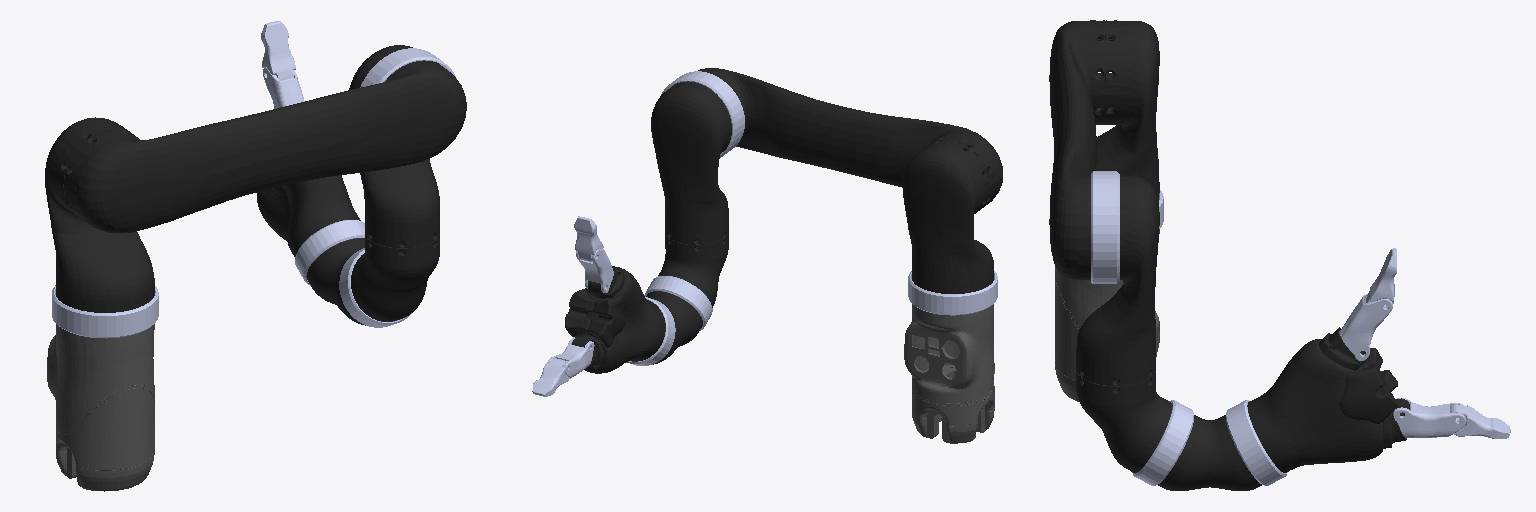
The robot description file, URDF, robot "ADA":
<robot
  name="ADA">
  <link
    name="base_link">
    <inertial>
      <origin
        xyz="0 -0.0018698 0.00076788"
        rpy="0 0 0" />
      <mass
        value="0.64" />
      <inertia
        ixx="0.00059853"
        ixy="0"
        ixz="0"
        iyy="0.00058911"
        iyz="0"
        izz="0.00031086" />
    </inertial>
    <visual>
      <origin
        xyz="0 0 0"
        rpy="0 0 0" />
      <geometry>
        <mesh
          filename="package://ada_description/meshes/base_link.STL" />
      </geometry>
      <material
        name="">
        <color
          rgba="0.4 0.4 0.4 1" />
      </material>
    </visual>
    <collision>
      <origin
        xyz="0 0 0"
        rpy="0 0 0" />
      <geometry>
        <mesh
          filename="package://ada_description/meshes/base_link.STL" />
      </geometry>
    </collision>
  </link>
  <link
    name="Shoulder_Link">
    <inertial>
      <origin
        xyz="0 0.015563 0.072664"
        rpy="0 0 0" />
      <mass
        value="0.15215" />
      <inertia
        ixx="0.00035346"
        ixy="0"
        ixz="0"
        iyy="0.00038125"
        iyz="0"
        izz="0.00016029" />
    </inertial>
    <visual>
      <origin
        xyz="0 0 0"
        rpy="0 0 0" />
      <geometry>
        <mesh
          filename="package://ada_description/meshes/Shoulder_Link.STL" />
      </geometry>
      <material
        name="">
        <color
          rgba="0.2 0.2 0.2 1" />
      </material>
    </visual>
    <collision>
      <origin
        xyz="0 0 0"
        rpy="0 0 0" />
      <geometry>
        <mesh
          filename="package://ada_description/meshes/Shoulder_Link.STL" />
      </geometry>
    </collision>
  </link>
  <joint
    name="j1"
    type="continuous">
    <origin
      xyz="0 0 0.09875"
      rpy="0 0 0" />
    <parent
      link="base_link" />
    <child
      link="Shoulder_Link" />
    <axis
      xyz="0 0 -1" />
    <limit
      effort="9.5"
      velocity="0.9425" />
  </joint>
  <transmission name="Shoulder_Joint_Transmission">
    <type>transmission_interface/SimpleTransmission</type>
    <joint name="j1"/>
    <actuator name="Shoulder_Motor">
      <hardwareInterface>EffortJointInterface</hardwareInterface>
      <mechanicalReduction>136</mechanicalReduction>
    </actuator>
  </transmission>
  <link
    name="Arm_Link">
    <inertial>
      <origin
        xyz="-0.14503 0 -0.02688"
        rpy="0 0 0" />
      <mass
        value="0.2936" />
      <inertia
        ixx="0.00020244"
        ixy="0"
        ixz="0"
        iyy="0.0033623"
        iyz="0"
        izz="0.0034884" />
    </inertial>
    <visual>
      <origin
        xyz="0 0 0"
        rpy="0 0 0" />
      <geometry>
        <mesh
          filename="package://ada_description/meshes/Arm_Link.STL" />
      </geometry>
      <material
        name="">
        <color
          rgba="0.2 0.2 0.2 1" />
      </material>
    </visual>
    <collision>
      <origin
        xyz="0 0 0"
        rpy="0 0 0" />
      <geometry>
        <mesh
          filename="package://ada_description/meshes/Arm_Link.STL" />
      </geometry>
    </collision>
  </link>
  <joint
    name="j2"
    type="revolute">
    <origin
      xyz="0 -0.00175 0.11875"
      rpy="1.5708 0 3.1416" />
    <parent
      link="Shoulder_Link" />
    <child
      link="Arm_Link" />
    <axis
      xyz="0 0 1" />
    <limit
      lower="-3.84"
      upper="0.70"
      effort="9.5"
      velocity="0.9425" />
  </joint>
  <transmission name="Arm_Joint_Transmission">
    <type>transmission_interface/SimpleTransmission</type>
    <joint name="j2"/>
    <actuator name="Arm_Motor">
      <hardwareInterface>EffortJointInterface</hardwareInterface>
      <mechanicalReduction>136</mechanicalReduction>
    </actuator>
  </transmission>
  <link
    name="Forearm_Link">
    <inertial>
      <origin
        xyz="0 -0.04006 -0.021871"
        rpy="0 0 0" />
      <mass
        value="0.12259" />
      <inertia
        ixx="0.00024901"
        ixy="0"
        ixz="0"
        iyy="0"
        iyz="0"
        izz="0.00028426" />
    </inertial>
    <visual>
      <origin
        xyz="0 0 0"
        rpy="0 0 0" />
      <geometry>
        <mesh
          filename="package://ada_description/meshes/Forearm_Link.STL" />
      </geometry>
      <material
        name="">
        <color
          rgba="0.2 0.2 0.2 1" />
      </material>
    </visual>
    <collision>
      <origin
        xyz="0 0 0"
        rpy="0 0 0" />
      <geometry>
        <mesh
          filename="package://ada_description/meshes/Forearm_Link.STL" />
      </geometry>
    </collision>
  </link>
  <joint
    name="j3"
    type="revolute">
    <origin
      xyz="-0.29 0 0"
      rpy="3.1416 0 -3.1416" />
    <parent
      link="Arm_Link" />
    <child
      link="Forearm_Link" />
    <axis
      xyz="0 0 1" />
    <limit
      lower="-0.96"
      upper="4.10"
      effort="9.5"
      velocity="0.9425" />
  </joint>
  <transmission name="Forearm_Joint_Transmission">
    <type>transmission_interface/SimpleTransmission</type>
    <joint name="j3"/>
    <actuator name="Forearm_Motor">
      <hardwareInterface>EffortJointInterface</hardwareInterface>
      <mechanicalReduction>136</mechanicalReduction>
    </actuator>
  </transmission>
  <link
    name="Wrist_1_Link">
    <inertial>
      <origin
        xyz="0 -0.0082688 -0.038029"
        rpy="0 0 0" />
      <mass
        value="0.03694" />
      <inertia
        ixx="0"
        ixy="0"
        ixz="0"
        iyy="0"
        iyz="0"
        izz="0" />
    </inertial>
    <visual>
      <origin
        xyz="0 0 0"
        rpy="0 0 0" />
      <geometry>
        <mesh
          filename="package://ada_description/meshes/Wrist_1_Link.STL" />
      </geometry>
      <material
        name="">
        <color
          rgba="0.2 0.2 0.2 1" />
      </material>
    </visual>
    <collision>
      <origin
        xyz="0 0 0"
        rpy="0 0 0" />
      <geometry>
        <mesh
          filename="package://ada_description/meshes/Wrist_1_Link.STL" />
      </geometry>
    </collision>
  </link>
  <joint
    name="j4"
    type="continuous">
    <origin
      xyz="0 -0.12325 -0.00875"
      rpy="1.5708 0 -3.1416" />
    <parent
      link="Forearm_Link" />
    <child
      link="Wrist_1_Link" />
    <axis
      xyz="0 0 1" />
    <limit
      effort="3.8"
      velocity="1.885" />
  </joint>
  <transmission name="Wrist_1_Joint_Transmission">
    <type>transmission_interface/SimpleTransmission</type>
    <joint name="j4"/>
    <actuator name="Wrist_1_Motor">
      <hardwareInterface>EffortJointInterface</hardwareInterface>
      <mechanicalReduction>110</mechanicalReduction>
    </actuator>
  </transmission>
  <link
    name="Wrist_2_Link">
    <inertial>
      <origin
        xyz="0 0.0082685 -0.038029"
        rpy="0 0 0" />
      <mass
        value="0.036939" />
      <inertia
        ixx="0"
        ixy="0"
        ixz="0"
        iyy="0"
        iyz="0"
        izz="0" />
    </inertial>
    <visual>
      <origin
        xyz="0 0 0"
        rpy="0 0 0" />
      <geometry>
        <mesh
          filename="package://ada_description/meshes/Wrist_2_Link.STL" />
      </geometry>
      <material
        name="">
        <color
          rgba="0.2 0.2 0.2 1" />
      </material>
    </visual>
    <collision>
      <origin
        xyz="0 0 0"
        rpy="0 0 0" />
      <geometry>
        <mesh
          filename="package://ada_description/meshes/Wrist_2_Link.STL" />
      </geometry>
    </collision>
  </link>
  <joint
    name="j5"
    type="continuous">
    <origin
      xyz="0 -0.037029 -0.064136"
      rpy="1.0472 0 3.1416" />
    <parent
      link="Wrist_1_Link" />
    <child
      link="Wrist_2_Link" />
    <axis
      xyz="0 0 1" />
    <limit
      effort="3.8"
      velocity="1.885" />
  </joint>
  <transmission name="Wrist_2_Joint_Transmission">
    <type>transmission_interface/SimpleTransmission</type>
    <joint name="j5"/>
    <actuator name="Wrist_2_Motor">
      <hardwareInterface>EffortJointInterface</hardwareInterface>
      <mechanicalReduction>110</mechanicalReduction>
    </actuator>
  </transmission>
  <link
    name="Hand_Link">
    <inertial>
      <origin
        xyz="0.0015134 0 -0.074456"
        rpy="0 0 0" />
      <mass
        value="0.4" />
      <inertia
        ixx="0.00020901"
        ixy="0"
        ixz="0"
        iyy="0.00015498"
        iyz="0"
        izz="0.00012507" />
    </inertial>
    <visual>
      <origin
        xyz="0 0 0"
        rpy="0 0 0" />
      <geometry>
        <mesh
          filename="package://ada_description/meshes/Hand_Link.STL" />
      </geometry>
      <material
        name="">
        <color
          rgba="0.2 0.2 0.2 1" />
      </material>
    </visual>
    <collision>
      <origin
        xyz="0 0 0"
        rpy="0 0 0" />
      <geometry>
        <mesh
          filename="package://ada_description/meshes/Hand_Link.STL" />
      </geometry>
    </collision>
  </link>
  <joint
    name="j6"
    type="continuous">
    <origin
      xyz="0 0.037029 -0.064136"
      rpy="1.0472 0 0" />
    <parent
      link="Wrist_2_Link" />
    <child
      link="Hand_Link" />
    <axis
      xyz="0 0 1" />
    <limit
      effort="3.6"
      velocity="1.885" />
  </joint>
  <transmission name="Hand_Joint_Transmission">
    <type>transmission_interface/SimpleTransmission</type>
    <joint name="j6"/>
    <actuator name="Hand_Motor">
      <hardwareInterface>EffortJointInterface</hardwareInterface>
      <mechanicalReduction>110</mechanicalReduction>
    </actuator>
  </transmission>
  <link
    name="Finger_1_Proximal_Link">
    <inertial>
      <origin
        xyz="-0.00894704183784709 -0.0181466381953971 0"
        rpy="0 0 0" />
      <mass
        value="0.0106365590225629" />
      <inertia
        ixx="0"
        ixy="0"
        ixz="0"
        iyy="0"
        iyz="0"
        izz="0" />
    </inertial>
    <visual>
      <origin
        xyz="0 0 0"
        rpy="0 0 0" />
      <geometry>
        <mesh
          filename="package://ada_description/meshes/Finger_1_Proximal_Link.STL" />
      </geometry>
      <material
        name="">
        <color
          rgba="0.792156862745098 0.819607843137255 0.933333333333333 1" />
      </material>
    </visual>
    <collision>
      <origin
        xyz="0 0 0"
        rpy="0 0 0" />
      <geometry>
        <mesh
          filename="package://ada_description/meshes/Finger_1_Proximal_Link.STL" />
      </geometry>
    </collision>
  </link>
  <joint
    name="Finger_1_Proximal_Joint"
    type="revolute">
    <origin
      xyz="0.0024957 -0.030948 -0.11482"
      rpy="1.5708 0.56392 1.5708" />
    <parent
      link="Hand_Link" />
    <child
      link="Finger_1_Proximal_Link" />
    <axis
      xyz="0 0 1" />
    <limit
      lower="0"
      upper="1.05"
      effort="1.2"
      velocity="0.785398163" />
  </joint>
  <transmission name="Finger_1_Proximal_Joint_Transmission">
    <type>transmission_interface/SimpleTransmission</type>
    <joint name="Finger_1_Proximal_Joint"/>
    <actuator name="Finger_1_Proximal_Motor">
      <hardwareInterface>EffortJointInterface</hardwareInterface>
      <mechanicalReduction>1</mechanicalReduction>
    </actuator>
  </transmission>
  <link
    name="Finger_1_Distal_Link">
    <inertial>
      <origin
        xyz="-0.0047690584177113 -0.0133399601477665 0"
        rpy="0 0 0" />
      <mass
        value="0.0121939815401302" />
      <inertia
        ixx="0"
        ixy="0"
        ixz="0"
        iyy="0"
        iyz="0"
        izz="0" />
    </inertial>
    <visual>
      <origin
        xyz="0 0 0"
        rpy="0 0 0" />
      <geometry>
        <mesh
          filename="package://ada_description/meshes/Finger_1_Distal_Link.STL" />
      </geometry>
      <material
        name="">
        <color
          rgba="0.792156862745098 0.819607843137255 0.933333333333333 1" />
      </material>
    </visual>
    <collision>
      <origin
        xyz="0 0 0"
        rpy="0 0 0" />
      <geometry>
        <mesh
          filename="package://ada_description/meshes/Finger_1_Distal_Link.STL" />
      </geometry>
    </collision>
  </link>
  <joint
    name="Finger_1_Distal_Joint"
    type="revolute">
    <origin
      xyz="-0.003 -0.044 0"
      rpy="0 0 -0.19199" />
    <parent
      link="Finger_1_Proximal_Link" />
    <child
      link="Finger_1_Distal_Link" />
    <axis
      xyz="0 0 1" />
    <limit
      lower="0"
      upper="1.05"
      effort="1.2"
      velocity="0.785398163" />
    <mimic 
      joint="Finger_1_Proximal_Joint"
      multiplier="0.5" />
  </joint>
  <transmission name="Finger_1_Distal_Joint_Transmission">
    <type>transmission_interface/SimpleTransmission</type>
    <joint name="Finger_1_Distal_Joint"/>
    <actuator name="Finger_1_Distal_Motor">
      <hardwareInterface>EffortJointInterface</hardwareInterface>
      <mechanicalReduction>1</mechanicalReduction>
    </actuator>
  </transmission>
  <link
    name="Finger_2_Proximal_Link">
    <inertial>
      <origin
        xyz="-0.00894697932265109 -0.018146678045967 0"
        rpy="0 0 0" />
      <mass
        value="0.0106364391584646" />
      <inertia
        ixx="0"
        ixy="0"
        ixz="0"
        iyy="0"
        iyz="0"
        izz="0" />
    </inertial>
    <visual>
      <origin
        xyz="0 0 0"
        rpy="0 0 0" />
      <geometry>
        <mesh
          filename="package://ada_description/meshes/Finger_2_Proximal_Link.STL" />
      </geometry>
      <material
        name="">
        <color
          rgba="0.792156862745098 0.819607843137255 0.933333333333333 1" />
      </material>
    </visual>
    <collision>
      <origin
        xyz="0 0 0"
        rpy="0 0 0" />
      <geometry>
        <mesh
          filename="package://ada_description/meshes/Finger_2_Proximal_Link.STL" />
      </geometry>
    </collision>
  </link>
  <joint
    name="Finger_2_Proximal_Joint"
    type="revolute">
    <origin
      xyz="0.0024957 0.030948 -0.11482"
      rpy="1.5708 0.56392 -1.5708" />
    <parent
      link="Hand_Link" />
    <child
      link="Finger_2_Proximal_Link" />
    <axis
      xyz="0 0 1" />
    <limit
      lower="0"
      upper="1.05"
      effort="1.2"
      velocity="0.785398163" />
  </joint>
  <transmission name="Finger_2_Proximal_Joint_Transmission">
    <type>transmission_interface/SimpleTransmission</type>
    <joint name="Finger_2_Proximal_Joint"/>
    <actuator name="Finger_2_Proximal_Motor">
      <hardwareInterface>EffortJointInterface</hardwareInterface>
      <mechanicalReduction>1</mechanicalReduction>
    </actuator>
  </transmission>
  <link
    name="Finger_2_Distal_Link">
    <inertial>
      <origin
        xyz="-0.00476909654850879 -0.0133398607161451 0"
        rpy="0 0 0" />
      <mass
        value="0.0121939010456702" />
      <inertia
        ixx="0"
        ixy="0"
        ixz="0"
        iyy="0"
        iyz="0"
        izz="0" />
    </inertial>
    <visual>
      <origin
        xyz="0 0 0"
        rpy="0 0 0" />
      <geometry>
        <mesh
          filename="package://ada_description/meshes/Finger_2_Distal_Link.STL" />
      </geometry>
      <material
        name="">
        <color
          rgba="0.792156862745098 0.819607843137255 0.933333333333333 1" />
      </material>
    </visual>
    <collision>
      <origin
        xyz="0 0 0"
        rpy="0 0 0" />
      <geometry>
        <mesh
          filename="package://ada_description/meshes/Finger_2_Distal_Link.STL" />
      </geometry>
    </collision>
  </link>
  <joint
    name="Finger_2_Distal_Joint"
    type="revolute">
    <origin
      xyz="-0.003 -0.044 0"
      rpy="0 0 -0.19199" />
    <parent
      link="Finger_2_Proximal_Link" />
    <child
      link="Finger_2_Distal_Link" />
    <axis
      xyz="0 0 1" />
    <limit
      lower="0"
      upper="1.05"
      effort="1.2"
      velocity="0.785398163" />
    <mimic 
      joint="Finger_2_Proximal_Joint"
      multiplier="0.5" />
  </joint>
  <transmission name="Finger_2_Distal_Joint_Transmission">
    <type>transmission_interface/SimpleTransmission</type>
    <joint name="Finger_2_Distal_Joint"/>
    <actuator name="Finger_2_Distal_Motor">
      <hardwareInterface>EffortJointInterface</hardwareInterface>
      <mechanicalReduction>1</mechanicalReduction>
    </actuator>
  </transmission>
  <link
    name="Hand_Ring_Link">
    <inertial>
      <origin
        xyz="0 0 0"
        rpy="0 0 0" />
      <mass
        value="0.4" />
      <inertia
        ixx="0"
        ixy="0"
        ixz="0"
        iyy="0"
        iyz="0"
        izz="0" />
    </inertial>
    <visual>
      <origin
        xyz="0 0 0"
        rpy="0 0 0" />
      <geometry>
        <mesh
          filename="package://ada_description/meshes/Hand_Ring_Link.STL" />
      </geometry>
      <material
        name="">
        <color
          rgba="0.79216 0.81961 0.93333 1" />
      </material>
    </visual>
    <collision>
      <origin
        xyz="0 0 0"
        rpy="0 0 0" />
      <geometry>
        <mesh
          filename="package://ada_description/meshes/Hand_Ring_Link.STL" />
      </geometry>
    </collision>
  </link>
  <joint
    name="Hand_Ring_Joint"
    type="fixed">
    <origin
      xyz="0 0 0"
      rpy="0 0 0" />
    <parent
      link="Hand_Link" />
    <child
      link="Hand_Ring_Link" />
    <axis
      xyz="0 0 0" />
  </joint>
  <link
    name="Wrist_2_Ring_Link">
    <inertial>
      <origin
        xyz="0 0 0"
        rpy="0 0 0" />
      <mass
        value="0.4" />
      <inertia
        ixx="0"
        ixy="0"
        ixz="0"
        iyy="0"
        iyz="0"
        izz="0" />
    </inertial>
    <visual>
      <origin
        xyz="0 0 0"
        rpy="0 0 0" />
      <geometry>
        <mesh
          filename="package://ada_description/meshes/Wrist_2_Ring_Link.STL" />
      </geometry>
      <material
        name="">
        <color
          rgba="0.79216 0.81961 0.93333 1" />
      </material>
    </visual>
    <collision>
      <origin
        xyz="0 0 0"
        rpy="0 0 0" />
      <geometry>
        <mesh
          filename="package://ada_description/meshes/Wrist_2_Ring_Link.STL" />
      </geometry>
    </collision>
  </link>
  <joint
    name="Wrist_2_Ring_Joint"
    type="fixed">
    <origin
      xyz="0 0 0"
      rpy="0 0 0" />
    <parent
      link="Wrist_2_Link" />
    <child
      link="Wrist_2_Ring_Link" />
    <axis
      xyz="0 0 0" />
  </joint>
  <link
    name="Wrist_1_Ring_Link">
    <inertial>
      <origin
        xyz="0 0 0"
        rpy="0 0 0" />
      <mass
        value="0.4" />
      <inertia
        ixx="0"
        ixy="0"
        ixz="0"
        iyy="0"
        iyz="0"
        izz="0" />
    </inertial>
    <visual>
      <origin
        xyz="0 0 0"
        rpy="0 0 0" />
      <geometry>
        <mesh
          filename="package://ada_description/meshes/Wrist_1_Ring_Link.STL" />
      </geometry>
      <material
        name="">
        <color
          rgba="0.79216 0.81961 0.93333 1" />
      </material>
    </visual>
    <collision>
      <origin
        xyz="0 0 0"
        rpy="0 0 0" />
      <geometry>
        <mesh
          filename="package://ada_description/meshes/Wrist_1_Ring_Link.STL" />
      </geometry>
    </collision>
  </link>
  <joint
    name="Wrist_1_Ring_Joint"
    type="fixed">
    <origin
      xyz="0 0 0"
      rpy="0 0 0" />
    <parent
      link="Wrist_1_Link" />
    <child
      link="Wrist_1_Ring_Link" />
    <axis
      xyz="0 0 0" />
  </joint>
  <link
    name="Forearm_Ring_Link">
    <inertial>
      <origin
        xyz="0 0 0"
        rpy="0 0 0" />
      <mass
        value="0.76" />
      <inertia
        ixx="0"
        ixy="0"
        ixz="0"
        iyy="0"
        iyz="0"
        izz="0" />
    </inertial>
    <visual>
      <origin
        xyz="0 0 0"
        rpy="0 0 0" />
      <geometry>
        <mesh
          filename="package://ada_description/meshes/Forearm_Ring_Link.STL" />
      </geometry>
      <material
        name="">
        <color
          rgba="0.79216 0.81961 0.93333 1" />
      </material>
    </visual>
    <collision>
      <origin
        xyz="0 0 0"
        rpy="0 0 0" />
      <geometry>
        <mesh
          filename="package://ada_description/meshes/Forearm_Ring_Link.STL" />
      </geometry>
    </collision>
  </link>
  <joint
    name="Forearm_Ring_Joint"
    type="fixed">
    <origin
      xyz="0 0 0"
      rpy="0 0 0" />
    <parent
      link="Forearm_Link" />
    <child
      link="Forearm_Ring_Link" />
    <axis
      xyz="0 0 0" />
  </joint>
  <link
    name="Arm_Ring_Link">
    <inertial>
      <origin
        xyz="0 0 0"
        rpy="0 0 0" />
      <mass
        value="0.76" />
      <inertia
        ixx="0"
        ixy="0"
        ixz="0"
        iyy="0"
        iyz="0"
        izz="0" />
    </inertial>
    <visual>
      <origin
        xyz="0 0 0"
        rpy="0 0 0" />
      <geometry>
        <mesh
          filename="package://ada_description/meshes/Arm_Ring_Link.STL" />
      </geometry>
      <material
        name="">
        <color
          rgba="0.79216 0.81961 0.93333 1" />
      </material>
    </visual>
    <collision>
      <origin
        xyz="0 0 0"
        rpy="0 0 0" />
      <geometry>
        <mesh
          filename="package://ada_description/meshes/Arm_Ring_Link.STL" />
      </geometry>
    </collision>
  </link>
  <joint
    name="Arm_Ring_Joint"
    type="fixed">
    <origin
      xyz="0 0 0"
      rpy="0 0 0" />
    <parent
      link="Arm_Link" />
    <child
      link="Arm_Ring_Link" />
    <axis
      xyz="0 0 0" />
  </joint>
  <link
    name="Shoulder_Ring_Link">
    <inertial>
      <origin
        xyz="0 0 0"
        rpy="0 0 0" />
      <mass
        value="0.76" />
      <inertia
        ixx="0"
        ixy="0"
        ixz="0"
        iyy="0"
        iyz="0"
        izz="0" />
    </inertial>
    <visual>
      <origin
        xyz="0 0 0"
        rpy="0 0 0" />
      <geometry>
        <mesh
          filename="package://ada_description/meshes/Shoulder_Ring_Link.STL" />
      </geometry>
      <material
        name="">
        <color
          rgba="0.79216 0.81961 0.93333 1" />
      </material>
    </visual>
    <collision>
      <origin
        xyz="0 0 0"
        rpy="0 0 0" />
      <geometry>
        <mesh
          filename="package://ada_description/meshes/Shoulder_Ring_Link.STL" />
      </geometry>
    </collision>
  </link>
  <joint
    name="Shoulder_Ring_Joint"
    type="fixed">
    <origin
      xyz="0 0 0"
      rpy="0 0 0" />
    <parent
      link="Shoulder_Link" />
    <child
      link="Shoulder_Ring_Link" />
    <axis
      xyz="0 0 0" />
  </joint>
</robot>

--- What the picture shows (computed from the rendered views, not written in the file) ---
The picture shows the robot from 3 angles, left to right: view 1: azimuth 30°, elevation 25°; view 2: azimuth 150°, elevation 25°; view 3: azimuth 270°, elevation 25°; orthographic projection.
Robot: ADA — 17 links, 16 joints (6 revolute, 4 continuous, 6 fixed); root link base_link; default pose: all joints at 0.
Links seen in each view (by area): view 1: Arm_Link, base_link, Shoulder_Link, Forearm_Link, Wrist_1_Link, Hand_Link, Shoulder_Ring_Link, Wrist_2_Link, Hand_Ring_Link, Finger_2_Distal_Link, Forearm_Ring_Link, Wrist_2_Ring_Link (+1 smaller); view 2: Arm_Link, Shoulder_Link, base_link, Forearm_Link, Hand_Link, Wrist_1_Link, Shoulder_Ring_Link, Forearm_Ring_Link, Wrist_2_Link, Wrist_2_Ring_Link, Finger_2_Distal_Link, Finger_2_Proximal_Link (+3 smaller); view 3: Hand_Link, Arm_Link, Forearm_Link, Shoulder_Link, Wrist_1_Link, Wrist_2_Link, base_link, Forearm_Ring_Link, Wrist_2_Ring_Link, Hand_Ring_Link, Finger_1_Proximal_Link, Finger_2_Proximal_Link (+2 smaller).
Boxes of the visible links, <box> form: Arm_Link: <box>64,60,466,232</box>; base_link: <box>47,324,154,491</box>; Shoulder_Link: <box>45,117,154,312</box>; Forearm_Link: <box>349,45,439,247</box>; Wrist_1_Link: <box>351,235,439,321</box>; Hand_Link: <box>257,175,360,256</box>; Shoulder_Ring_Link: <box>52,285,158,338</box>; Wrist_2_Link: <box>306,238,365,325</box>; Hand_Ring_Link: <box>295,220,364,285</box>; Finger_2_Distal_Link: <box>261,21,295,80</box>; Forearm_Ring_Link: <box>360,48,456,87</box>; Wrist_2_Ring_Link: <box>339,248,411,327</box>; Arm_Link: <box>698,68,1002,210</box>; Shoulder_Link: <box>902,140,993,293</box>; base_link: <box>904,304,994,443</box>; Forearm_Link: <box>651,81,731,244</box>; Hand_Link: <box>565,266,665,373</box>; Wrist_1_Link: <box>658,232,728,307</box>; Shoulder_Ring_Link: <box>908,271,997,315</box>; Forearm_Ring_Link: <box>661,71,744,157</box>; Wrist_2_Link: <box>646,291,702,364</box>; Wrist_2_Ring_Link: <box>644,276,712,330</box>; Finger_2_Distal_Link: <box>574,216,603,262</box>; Finger_2_Proximal_Link: <box>576,249,613,292</box>; Hand_Link: <box>1247,327,1409,472</box>; Arm_Link: <box>1049,20,1104,279</box>; Forearm_Link: <box>1076,176,1159,385</box>; Shoulder_Link: <box>1096,20,1159,201</box>; Wrist_1_Link: <box>1076,370,1172,472</box>; Wrist_2_Link: <box>1158,415,1261,490</box>; base_link: <box>1055,229,1159,401</box>; Forearm_Ring_Link: <box>1091,171,1119,283</box>; Wrist_2_Ring_Link: <box>1132,400,1193,485</box>; Hand_Ring_Link: <box>1226,400,1287,485</box>; Finger_1_Proximal_Link: <box>1393,398,1465,437</box>; Finger_2_Proximal_Link: <box>1339,294,1392,360</box>.
Size in the robot's own frame: 0.379 by 0.3641 by 0.3199 metres.
15 mesh visuals loaded from 17 distinct referenced files (15 binary STL); not drawn: 2 (reference not matched to a file when rendering).
